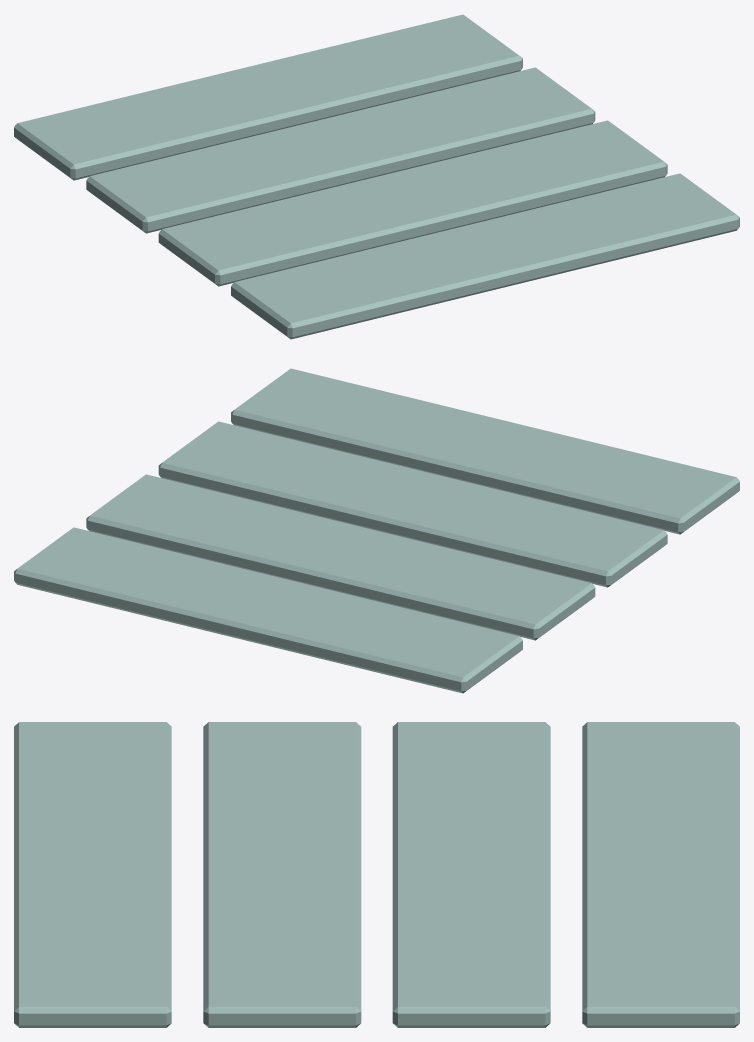
File: eq05_level_1.glb
3 renders of one model, top to bottom at view 1: azimuth 30°, elevation 25°; view 2: azimuth 150°, elevation 25°; view 3: azimuth 270°, elevation 25°, orthographic. The views are drawn at different scales.
Parts seen in each view (by area): view 1: eq05_level_1; view 2: eq05_level_1; view 3: eq05_level_1.
Boxes of the visible parts, x1=… form: eq05_level_1: x1=14, y1=14, x2=739, y2=339; eq05_level_1: x1=14, y1=368, x2=739, y2=693; eq05_level_1: x1=14, y1=722, x2=739, y2=1027.
Bounding box in the file's own units: 2.93 × 0.1 × 3.11.
